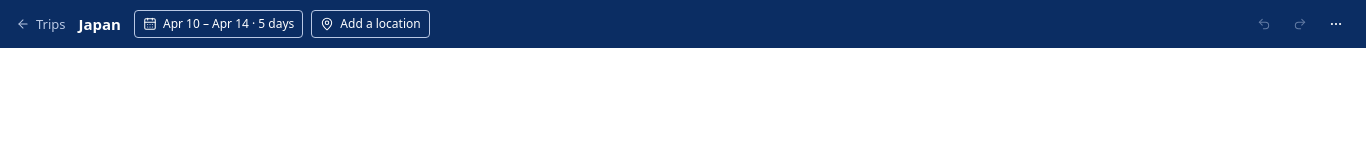
Test: TripHeader banner toggle › is not offered when the trip has no location (there is no banner to hide)
This screenshot has width=1366, height=160.
Click the button named "More trip actions" at (1336,24), box left=1322, top=10, right=1350, bottom=38
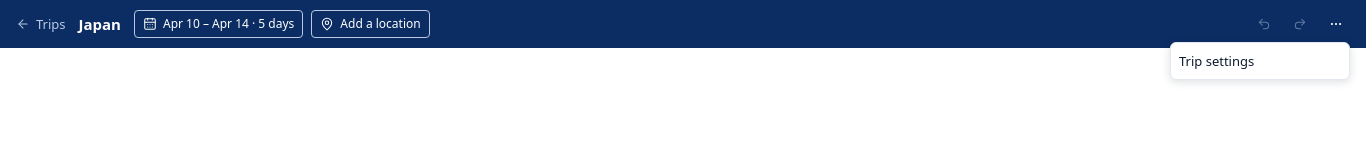
Now the menu item "Trip settings" is shown, box left=1179, top=52, right=1254, bottom=70
